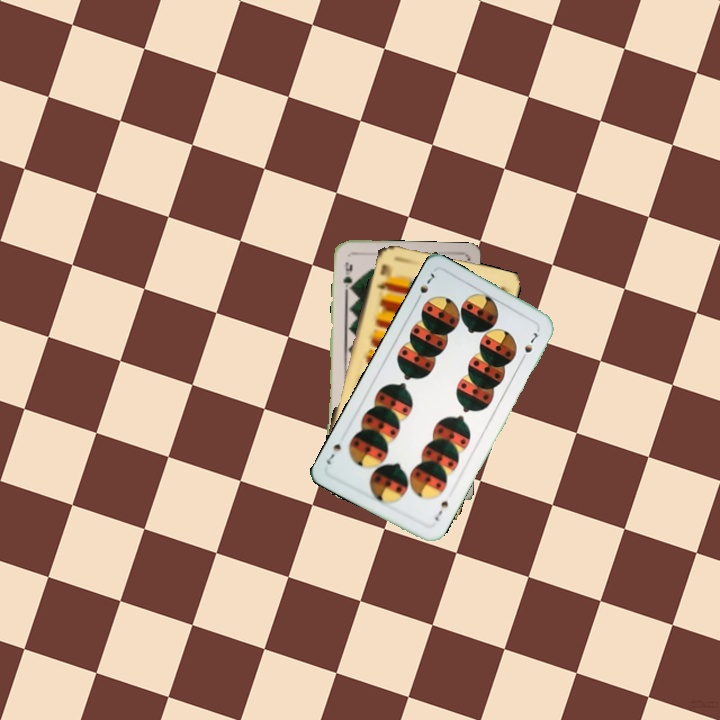E10: (372, 260, 393, 293)
G9: (339, 258, 355, 294)
S7: (412, 269, 437, 305), (431, 495, 451, 524)
